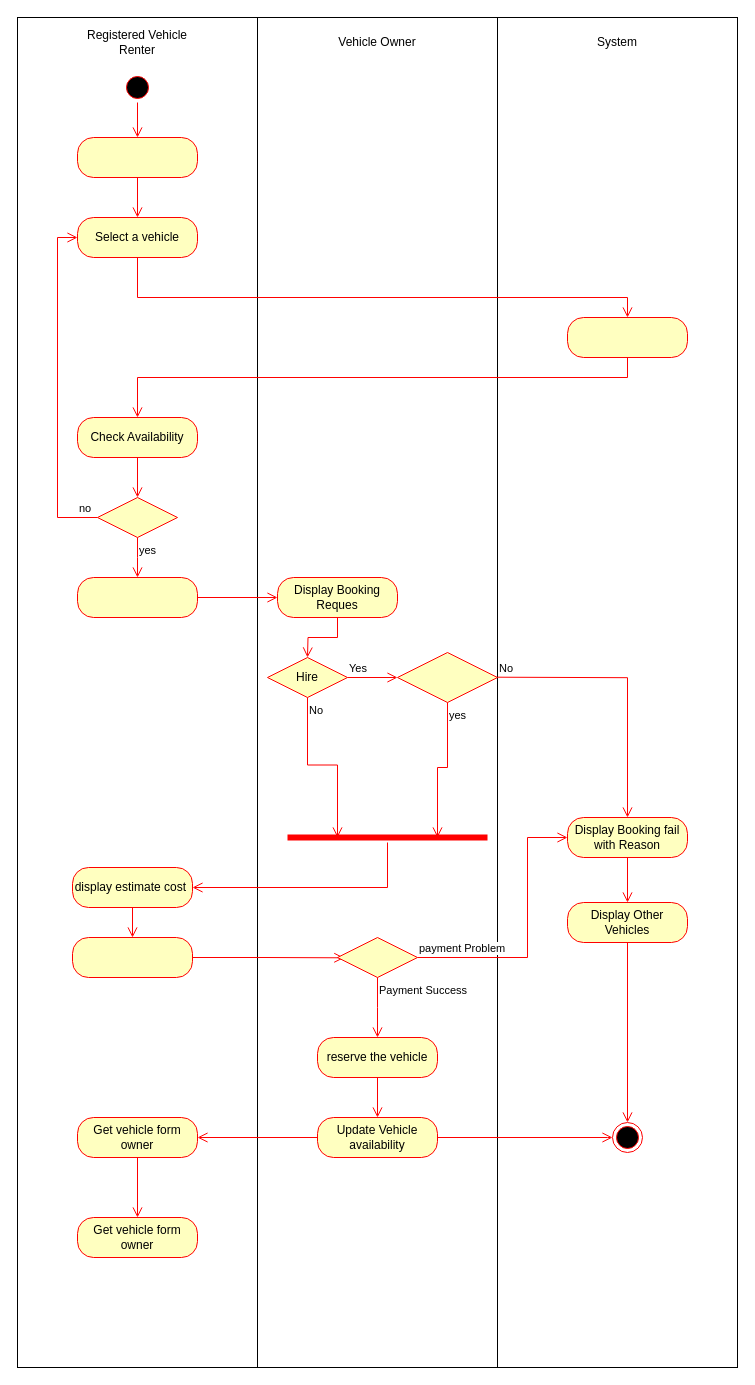
This 755x1385 diagram has some shape labels left out. Each missing label, with the centre of its shape:
"Available" belongs at point 137,517.
"Display Vehicle Details Page" belongs at point 627,337.
"Filter Vehicle for Rent or Hire" belongs at point 137,157.
"is driver available" belongs at point 447,677.
"pay booking fee" belongs at point 132,957.
"Place a Booking Request" belongs at point 137,597.
